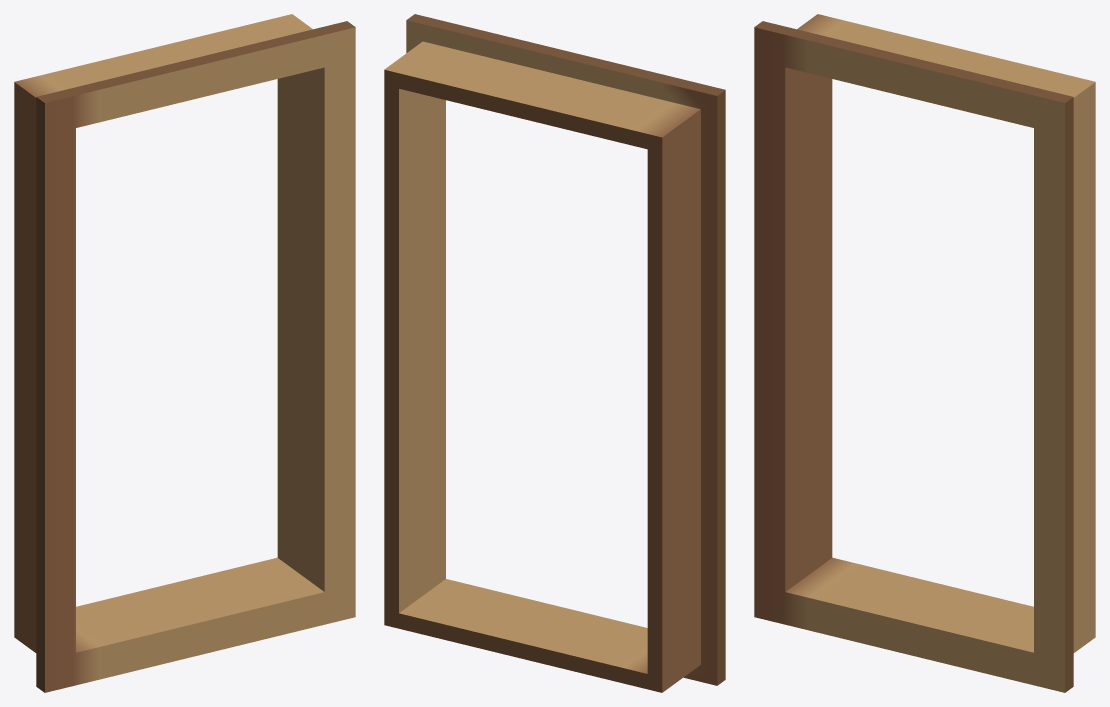
File: DBK_WinSmall_Trim_A_Full.fbx
3 views of the same model, side by side, from view 1: azimuth 30°, elevation 25°; view 2: azimuth 150°, elevation 25°; view 3: azimuth 330°, elevation 25° (orthographic).
Visible parts, largest first — view 1: DBK_WinSmall_Trim_A_Full; view 2: DBK_WinSmall_Trim_A_Full; view 3: DBK_WinSmall_Trim_A_Full.
Boxes of the visible parts, x1,y1,x2,y2 form: DBK_WinSmall_Trim_A_Full: [14, 14, 355, 692]; DBK_WinSmall_Trim_A_Full: [384, 14, 725, 692]; DBK_WinSmall_Trim_A_Full: [754, 14, 1095, 692].
Bounding box in the file's own units: 73.8 × 134 × 19.37.
